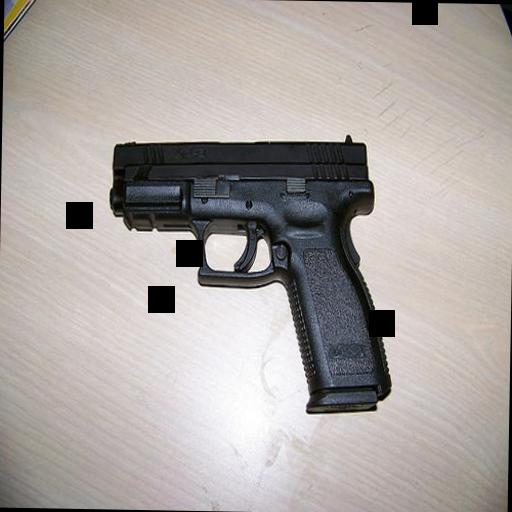Handgun: (102, 132, 396, 420)
